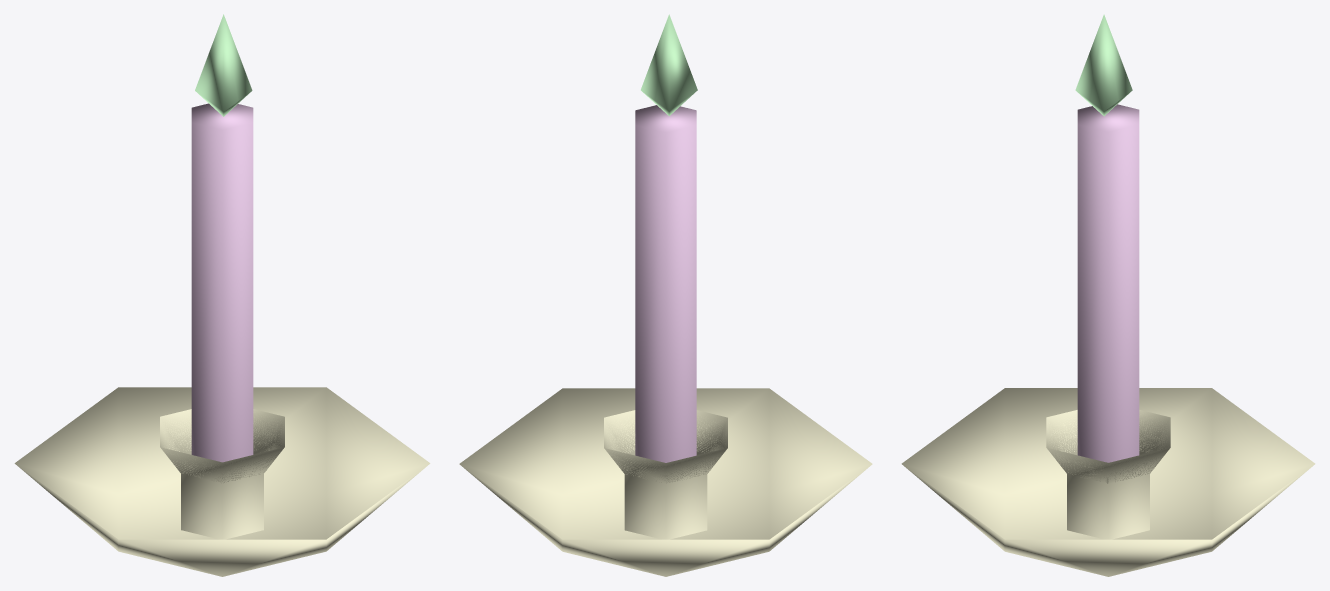
File: Candle.glb
3 views of the same model, side by side, from view 1: azimuth 30°, elevation 25°; view 2: azimuth 150°, elevation 25°; view 3: azimuth 270°, elevation 25° (orthographic).
Visible parts, largest first — view 1: Candle; view 2: Candle; view 3: Candle.
Boxes of the visible parts, x1,y1,x2,y2 form: Candle: [14, 14, 430, 576]; Candle: [459, 14, 872, 576]; Candle: [901, 14, 1315, 576].
Bounding box in the file's own units: 0.2598 × 0.409 × 0.3.
